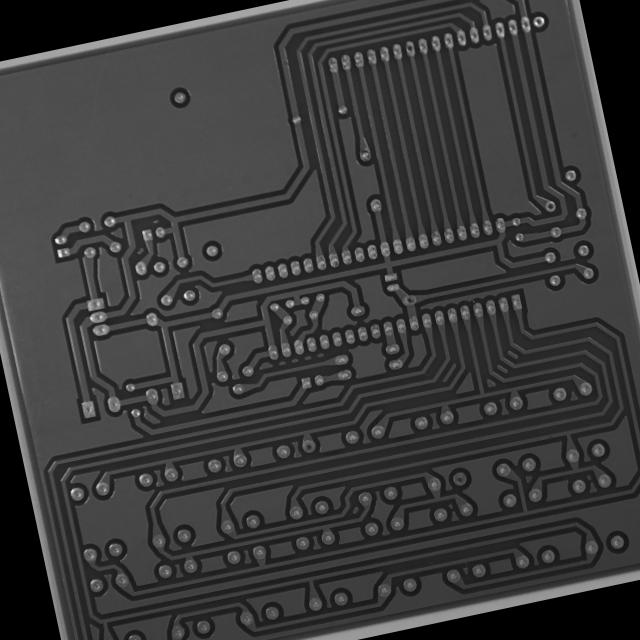missing_hole: (300, 436, 318, 456), (541, 197, 559, 214), (401, 40, 418, 58), (451, 470, 467, 488), (400, 292, 418, 306)
